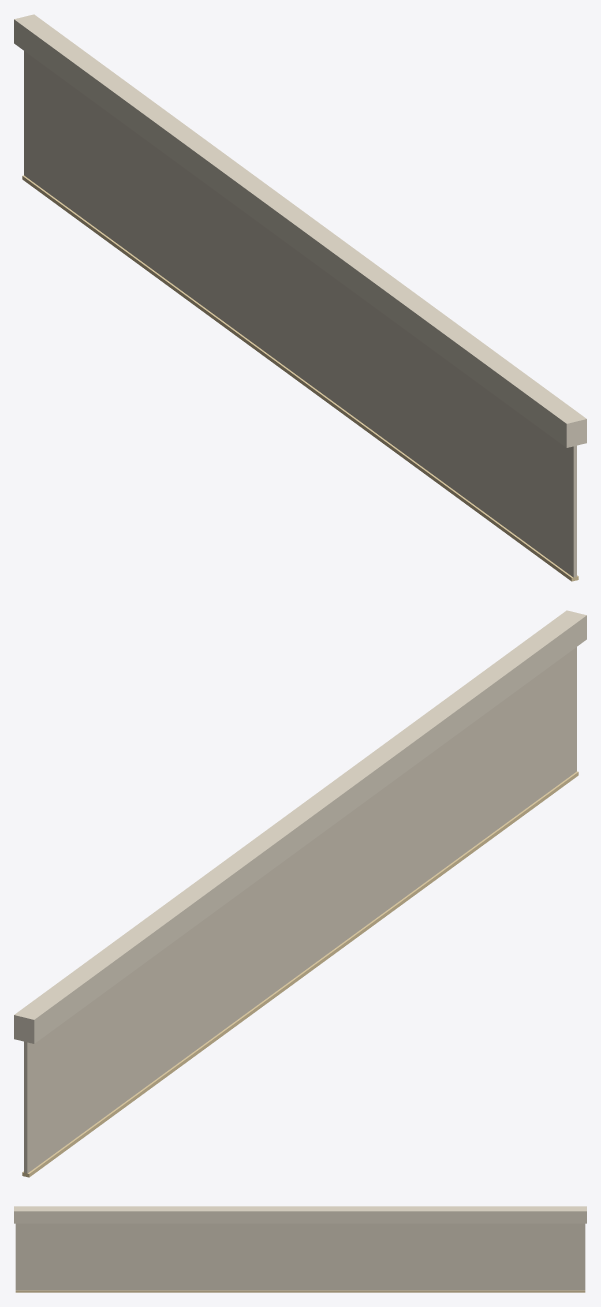
File: SM_Blind_Bedroom.fbx
3 views of the same model, one above another, from view 1: azimuth 30°, elevation 25°; view 2: azimuth 150°, elevation 25°; view 3: azimuth 270°, elevation 25° (orthographic). The views are drawn at different scales.
Parts seen in each view (by area): view 1: SM_Blind_Bedroom; view 2: SM_Blind_Bedroom; view 3: SM_Blind_Bedroom.
Boxes of the visible parts, x1,y1,x2,y2 form: SM_Blind_Bedroom: [14, 14, 586, 581]; SM_Blind_Bedroom: [14, 610, 586, 1177]; SM_Blind_Bedroom: [14, 1206, 586, 1292].
Bounding box in the file's own units: 7 × 53.2 × 332.
